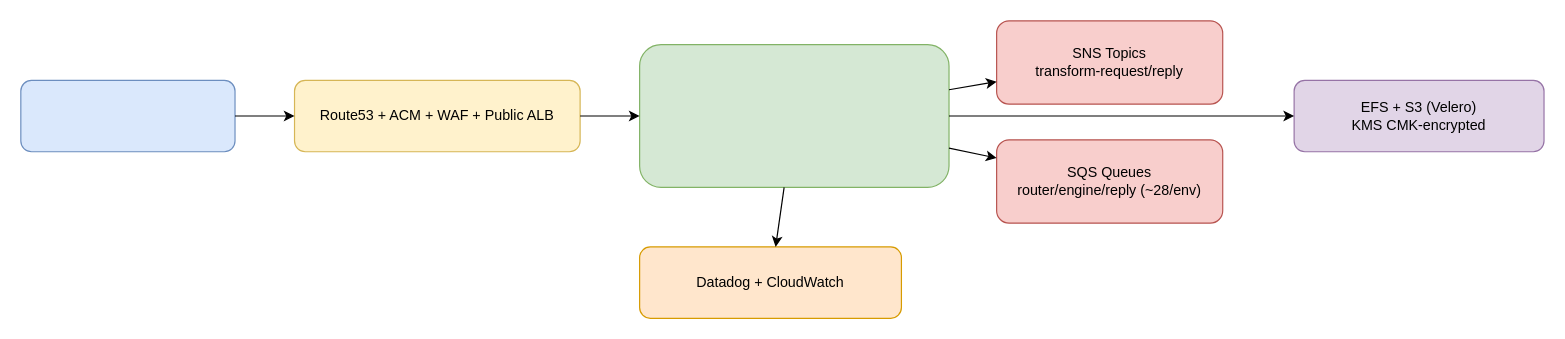
Some shapes in this 1565 by 339 pixel diagram are drawn without their labels. The shapes that lost their labels are listed below. From the top down, each one's centre as x and y in pixels, then its label:
At (127,115): "Clients / HxP Services".
At (793,115): "EKS (Router, Rest, Engines) Karpenter + KEDA".
